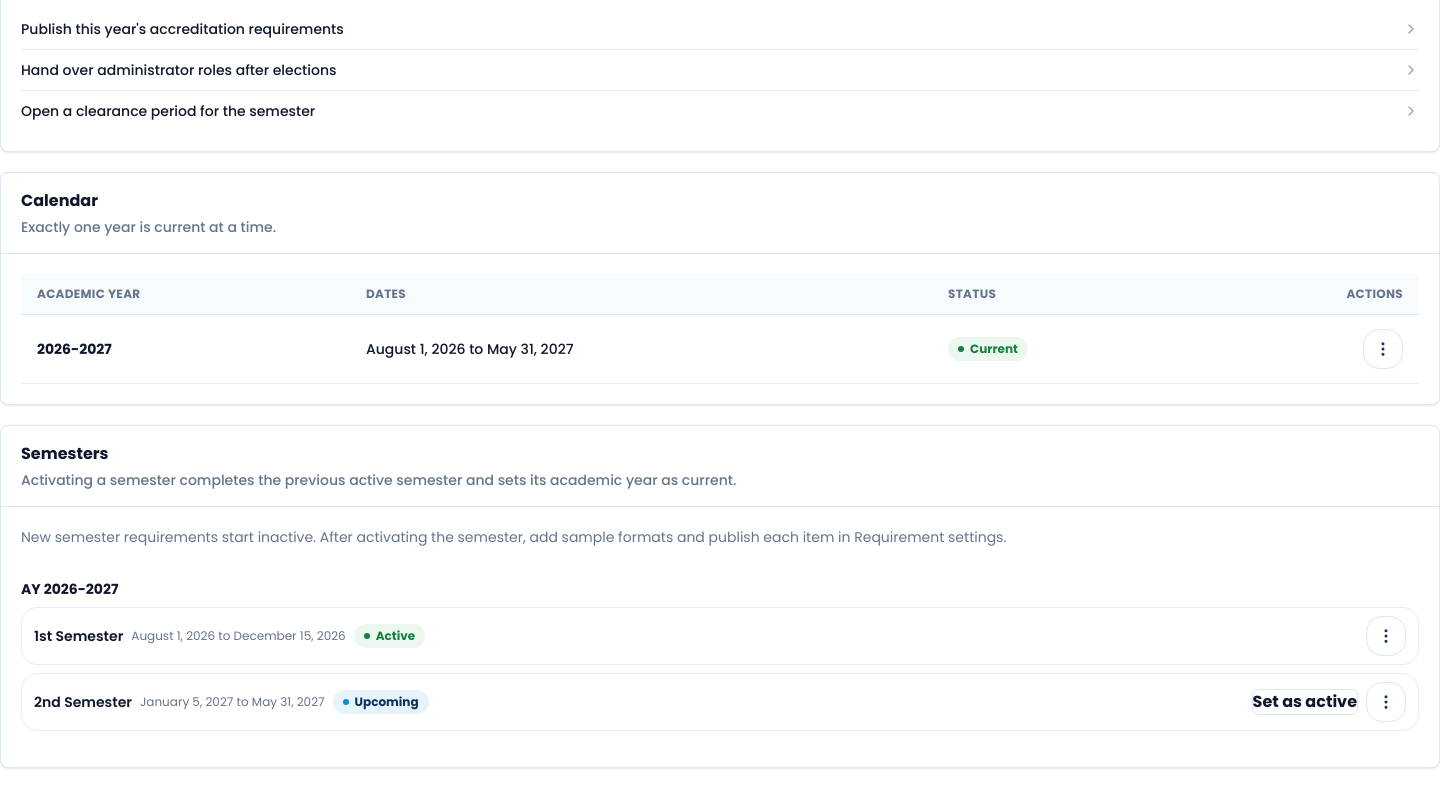
Scenario: AcademicYearsPage › deleting a semester › shows the server message and the blocking reasons on a 409
(page scrolled)
Click the button named "Actions for 2nd semester of AY 2026-2027". click: [1386, 702]
box: [1366,682,1406,722]
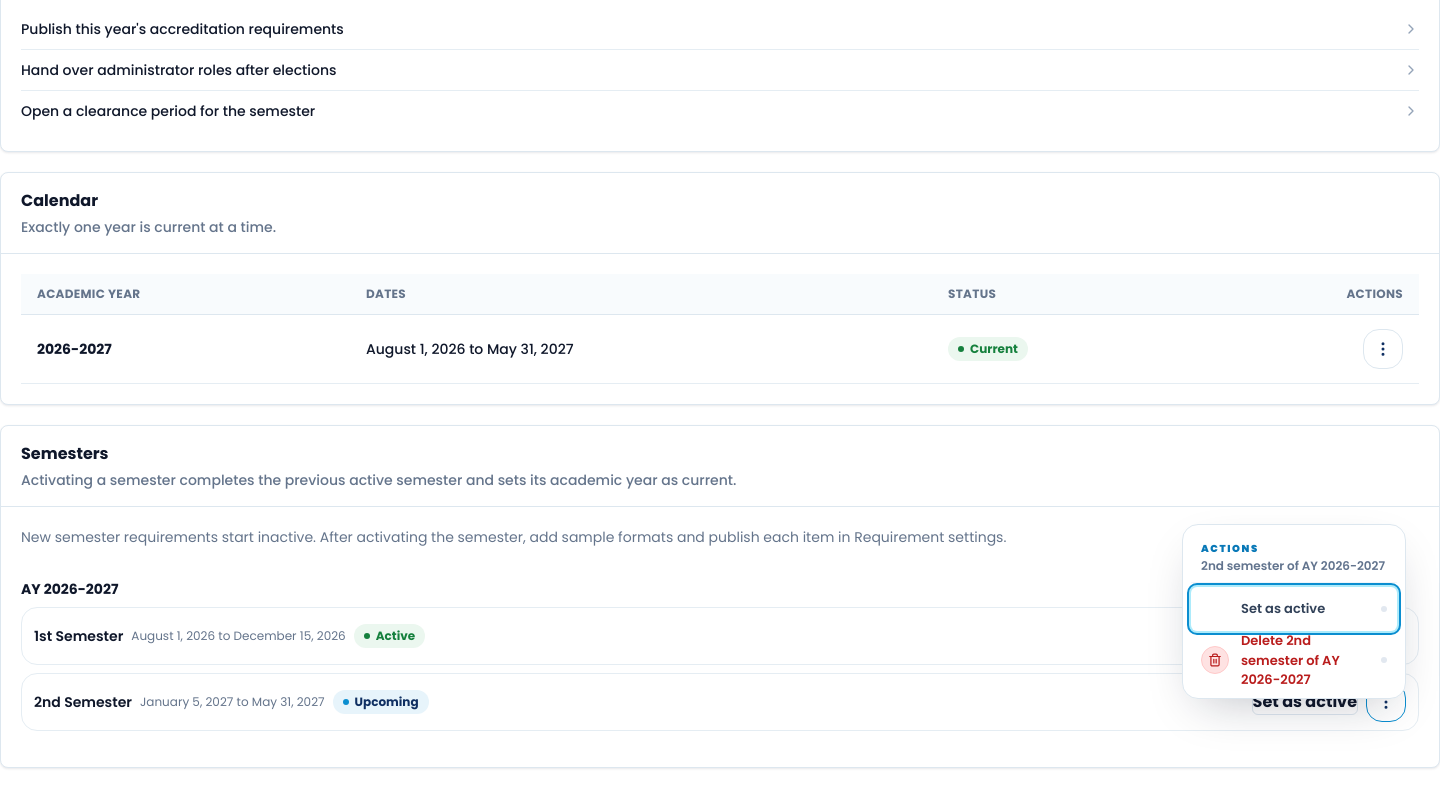
Click the menu item "Delete 2nd semester of AY 2026-2027". click: [1294, 660]
box: [1191,631,1397,690]
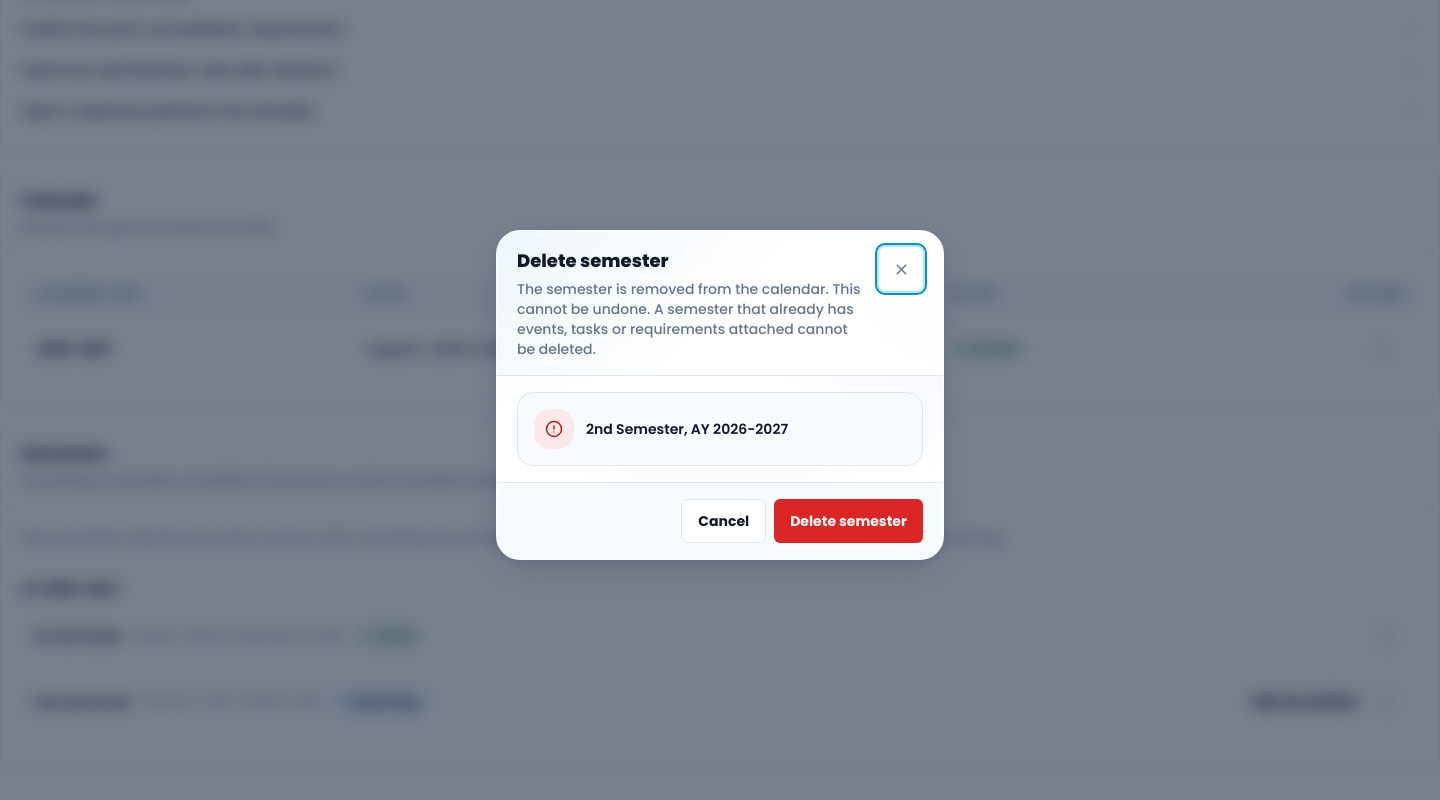
Click the button "Delete semester". click: [849, 521]
box: [774,499,923,543]
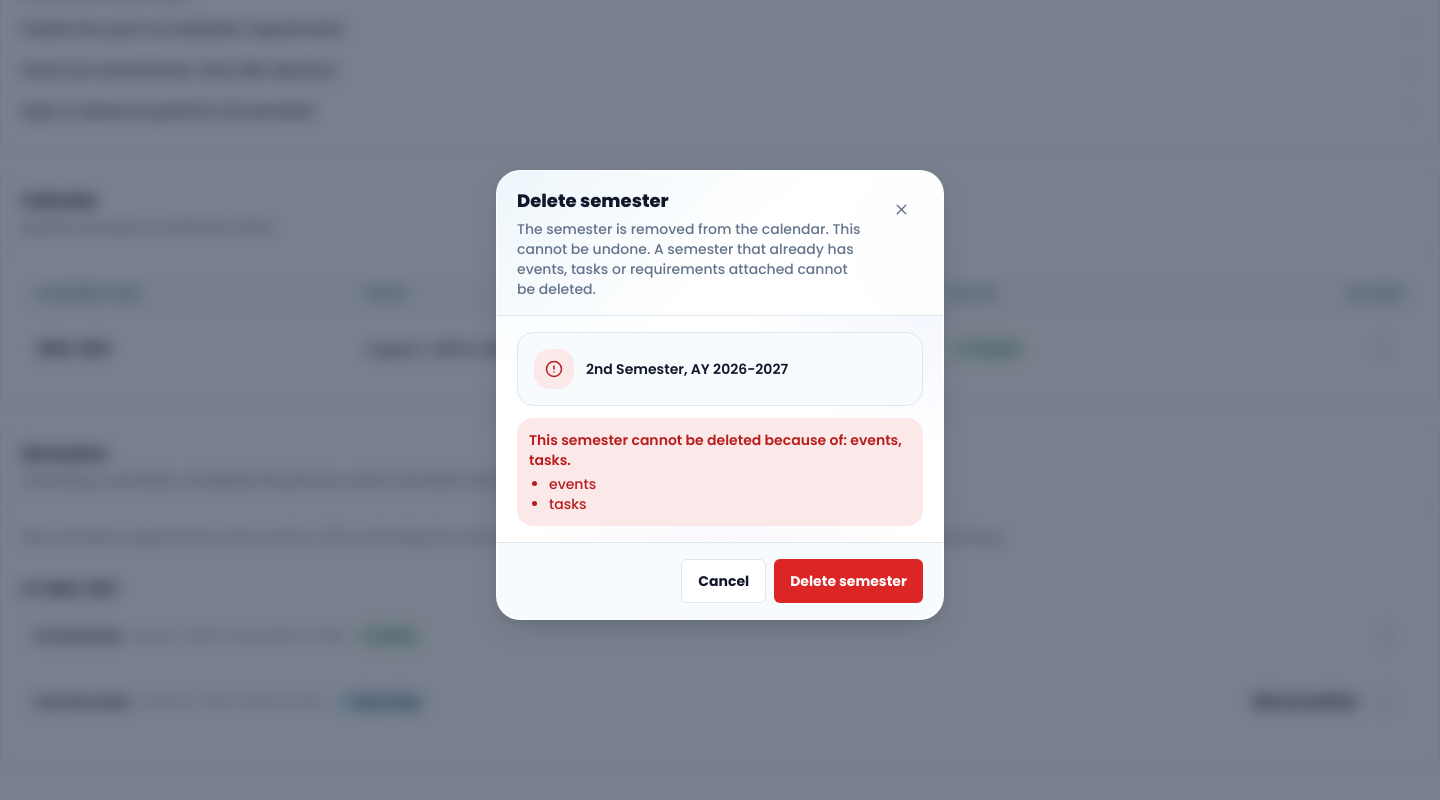
Expected: the text "This semester cannot be deleted because of: events, tasks." is shown, [529,430,911,470]
Expected: the list item "events" is shown, [549,474,596,494]
Expected: the list item "tasks" is shown, [549,494,586,514]
